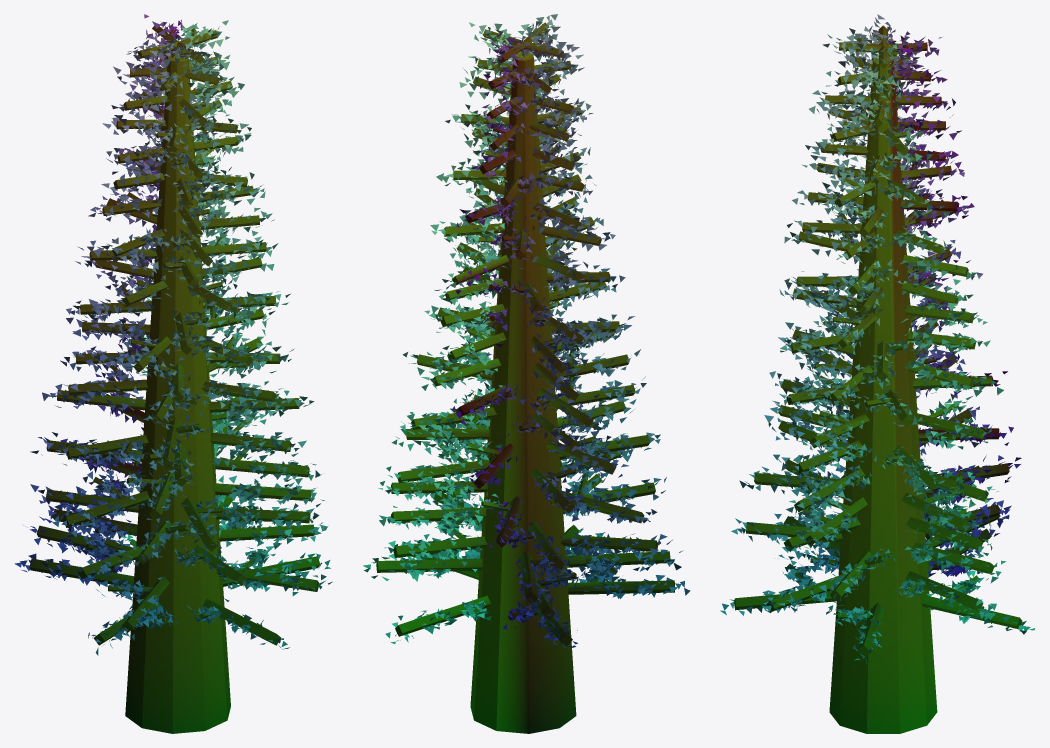
File: ecological_conifer_ancient_01.glb
3 views of the same model, side by side, from view 1: azimuth 30°, elevation 25°; view 2: azimuth 150°, elevation 25°; view 3: azimuth 270°, elevation 25° (orthographic).
Visible parts, largest first — view 1: ecological_conifer_ancient_01; view 2: ecological_conifer_ancient_01; view 3: ecological_conifer_ancient_01.
Part boxes in pixels (x1,y1,x2,y2): ecological_conifer_ancient_01: [14, 14, 332, 733]; ecological_conifer_ancient_01: [363, 14, 690, 733]; ecological_conifer_ancient_01: [720, 14, 1035, 733].
Bounding box in the file's own units: 35.87 × 85.52 × 36.07.
